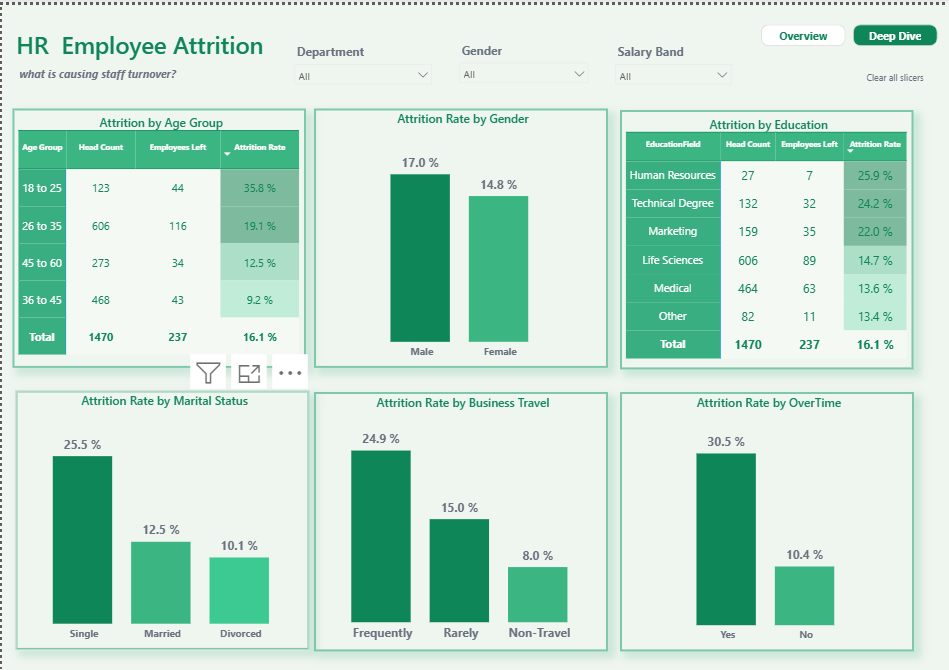

The page's visual inventory and layout, read from the dashboard file:
{"tool":"powerbi","page":{"name":"Deep Dive","canvas":[1280,900],"ordinal":1},"visuals":[{"type":"textbox","box":[14.6,25.9,370.8,57.9],"z":0,"group":"g1"},{"type":"group","id":"g1","title":"Group 1","box":[14.6,25.9,370.8,89.1],"z":0},{"type":"group","id":"g2","title":"Group 2","box":[385.4,43.7,608.8,71.2],"z":1000},{"type":"slicer","fields":{"Values":["hr_employees.Department"]},"box":[385.4,45.3,205.6,66.4],"z":1000,"group":"g2"},{"type":"textbox","box":[18.5,76.1,255.8,38.9],"z":1000,"group":"g1"},{"type":"slicer","fields":{"Values":["hr_employees.Gender"]},"box":[607.2,43.7,194.3,68],"z":2000,"group":"g2"},{"type":"actionButton","box":[1143.6,78.9,123.1,37.2],"z":2000},{"type":"pageNavigator","box":[1023.4,25.9,239.6,29.1],"z":3000},{"type":"slicer","fields":{"Values":["hr_employees.Salary Band"]},"box":[817.7,45.3,176.5,69.6],"z":3000,"group":"g2"},{"type":"pivotTable","title":"Attrition by Age Group","fields":{"Rows":["hr_employees.Age Group"],"Values":["hr_employees.Head Count","hr_employees.Employees Left","hr_employees.Attrition Rate"]},"box":[14.2,139.7,396,350],"z":4000},{"type":"pivotTable","title":"Attrition by Education","fields":{"Rows":["hr_employees.EducationField"],"Values":["hr_employees.Head Count","hr_employees.Employees Left","hr_employees.Attrition Rate"]},"box":[833.9,141.7,396,350],"z":5000},{"type":"columnChart","fields":{"Category":["hr_employees.Gender"],"Y":["hr_employees.Attrition Rate"]},"box":[421,139.7,396.7,350.2],"z":5001},{"type":"columnChart","title":"Attrition Rate by Marital Status","fields":{"Category":["hr_employees.MaritalStatus"],"Y":["hr_employees.Attrition Rate"]},"box":[18.2,520.2,396.7,350],"z":5002},{"type":"columnChart","title":"Attrition Rate by Business Travel","fields":{"Category":["BusinessTravelDisplay.Display"],"Y":["hr_employees.Attrition Rate"]},"box":[421,522.2,396.7,350],"z":5003},{"type":"columnChart","fields":{"Category":["hr_employees.OverTime"],"Y":["hr_employees.Attrition Rate"]},"box":[833.9,522.2,396.7,350],"z":5004}]}

Visuals, with their boxes in screenshot pixels (x1, y1, x2, y2), scaled from the page's 1280x900 canvas onto the 949x670 screenshot:
textbox: 11, 19, 286, 62
"Group 1" group: 11, 19, 286, 86
"Group 2" group: 286, 33, 737, 86
slicer - hr_employees.Department: 286, 34, 438, 83
textbox: 14, 57, 203, 86
slicer - hr_employees.Gender: 450, 33, 594, 83
actionButton: 848, 59, 939, 86
pageNavigator: 759, 19, 936, 41
slicer - hr_employees.Salary Band: 606, 34, 737, 86
"Attrition by Age Group" pivotTable: 11, 104, 304, 365
"Attrition by Education" pivotTable: 618, 105, 912, 366
columnChart - hr_employees.Gender x hr_employees.Attrition Rate: 312, 104, 606, 365
"Attrition Rate by Marital Status" columnChart: 13, 387, 308, 648
"Attrition Rate by Business Travel" columnChart: 312, 389, 606, 649
columnChart - hr_employees.OverTime x hr_employees.Attrition Rate: 618, 389, 912, 649
